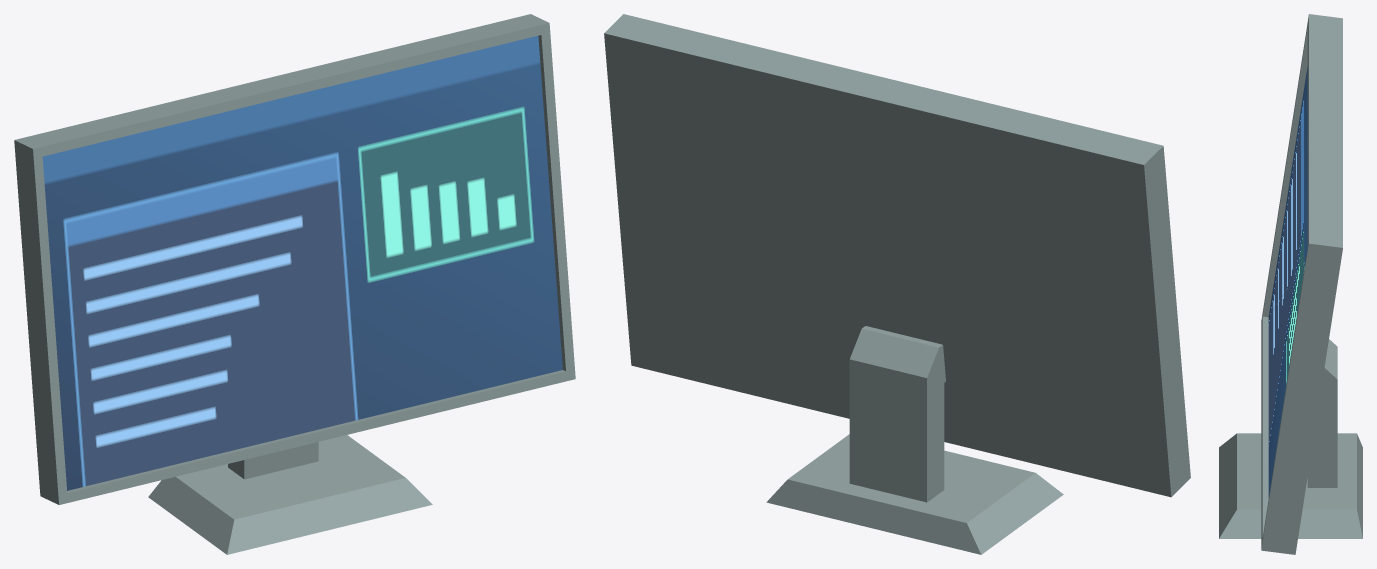
Rendered from computerScreen.glb.
3 renders of one model, left to right at view 1: azimuth 30°, elevation 25°; view 2: azimuth 150°, elevation 25°; view 3: azimuth 270°, elevation 25°, orthographic. The views are drawn at different scales.
Visible parts, largest first — view 1: computerScreen; view 2: computerScreen; view 3: computerScreen.
Part boxes in pixels (left/top/right/bottom): computerScreen: left=14, top=14, right=575, bottom=554; computerScreen: left=604, top=14, right=1190, bottom=554; computerScreen: left=1219, top=14, right=1362, bottom=554.
Bounding box in the file's own units: 0.3927 × 0.2943 × 0.104.
